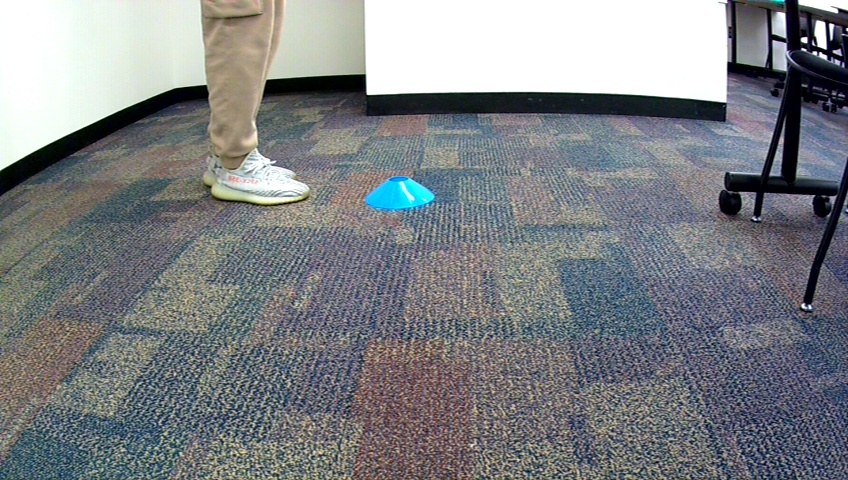cone: (363, 172, 437, 210)
